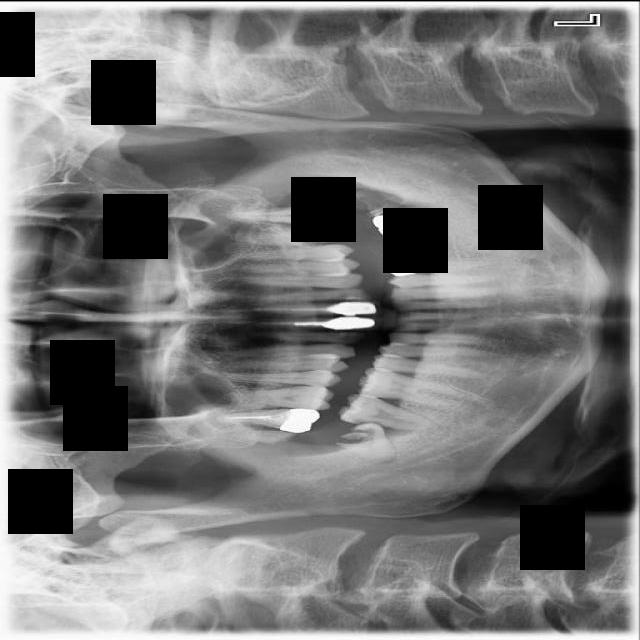3M ESPE Implant: (228, 429, 296, 444)
52: (371, 203, 438, 281), (275, 403, 320, 434), (299, 222, 342, 250), (357, 190, 402, 212), (325, 299, 380, 316), (325, 315, 380, 330), (399, 203, 427, 231), (336, 427, 372, 444), (328, 287, 370, 300), (325, 331, 364, 342)
73: (214, 402, 277, 427), (240, 301, 330, 313), (249, 316, 328, 328), (524, 44, 532, 50)
BioHorizons Implant: (229, 200, 338, 226)
Biomet 3i Implant: (355, 168, 423, 219)
Blue Sky Bio Implant: (372, 198, 446, 241)
Caries: (208, 407, 320, 432)
Implant: (336, 389, 442, 435)
Keystone Dental Implant: (334, 410, 406, 472)
